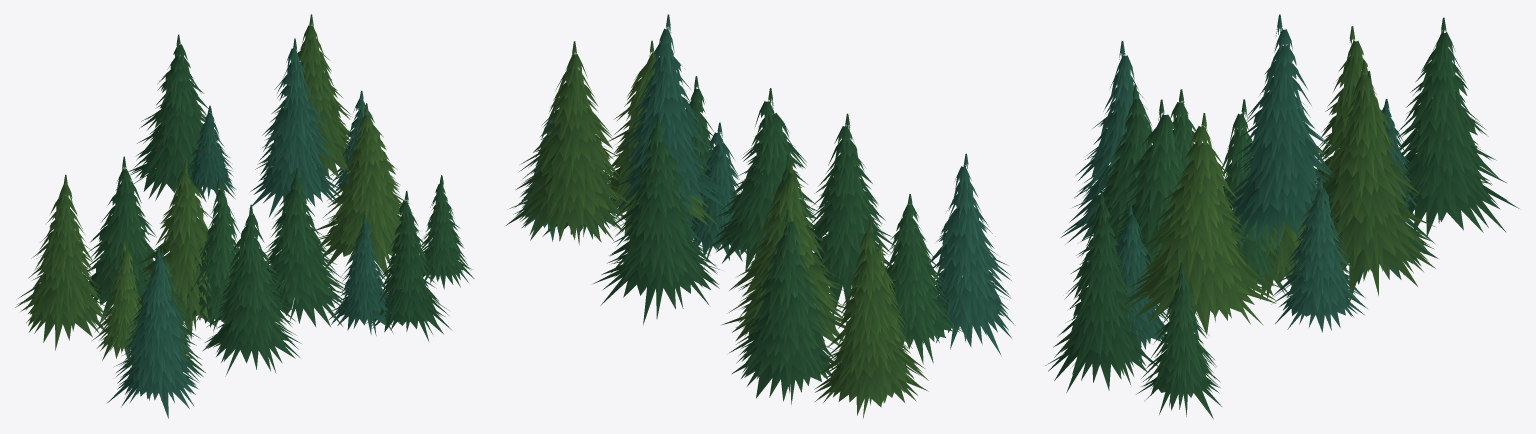
The model's file is pine_3.glb.
The picture shows the model from 3 angles, left to right: view 1: azimuth 30°, elevation 25°; view 2: azimuth 150°, elevation 25°; view 3: azimuth 270°, elevation 25°; orthographic projection. The views are drawn at different scales.
Parts seen in each view (by area): view 1: pine_3; view 2: pine_3; view 3: pine_3.
Part boxes in pixels (box(x1,y1,x2,y2)): pine_3: box(15, 14, 474, 418); pine_3: box(505, 14, 1015, 418); pine_3: box(1045, 14, 1519, 419).
Bounding box in the file's own units: 34.25 × 22.95 × 27.83.
Materials: 1 (1 with a texture image).
